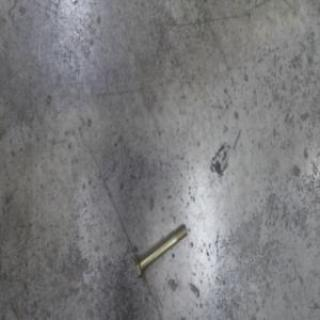Bolttrack_idkeyframe: (133, 220, 187, 282)
